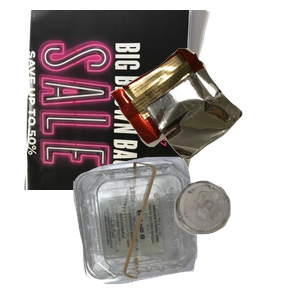glass: (172, 178, 300, 300)
paper: (22, 10, 225, 190)
plastic: (71, 154, 300, 300)
trash: (107, 46, 300, 198)
